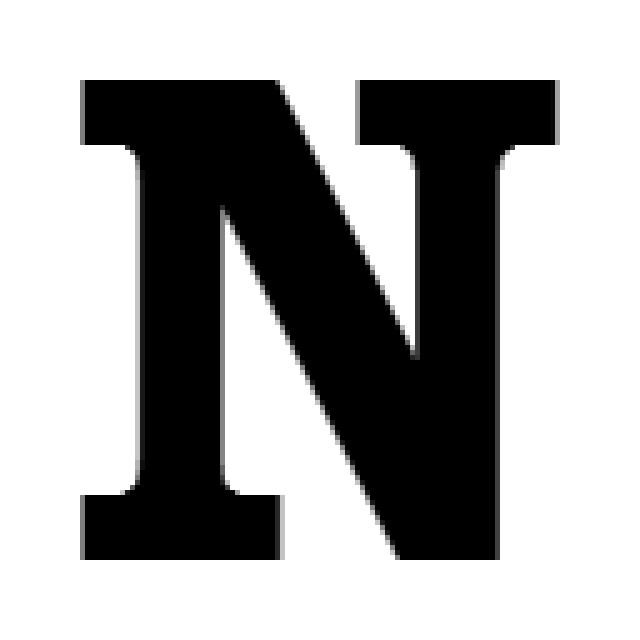N: (27, 65, 563, 565)
